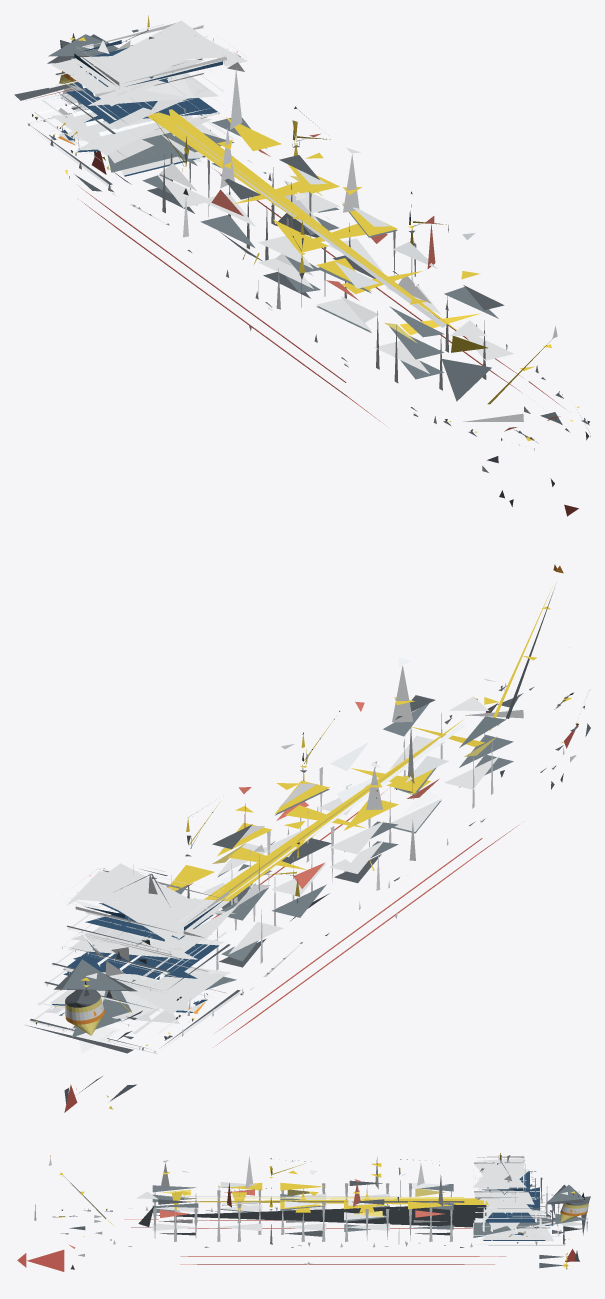
The model's file is ship_34.glb.
The picture shows the model from 3 angles, top to bottom: view 1: azimuth 30°, elevation 25°; view 2: azimuth 150°, elevation 25°; view 3: azimuth 270°, elevation 25°; orthographic projection. The views are drawn at different scales.
Visible parts, largest first — view 1: TrueHelm_Ship_34; view 2: TrueHelm_Ship_34; view 3: TrueHelm_Ship_34.
Part boxes in pixels (x1,y1,x2,y2): TrueHelm_Ship_34: (14, 15, 590, 516); TrueHelm_Ship_34: (25, 564, 590, 1112); TrueHelm_Ship_34: (17, 1153, 590, 1271).
Size of the model in its own units: 0.1675 by 0.225 by 1.
